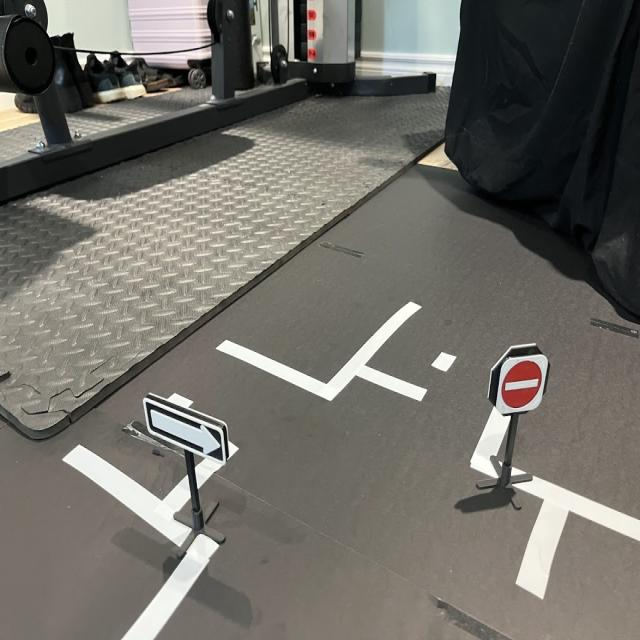sign_noentry: (493, 352, 551, 417)
sign_oneway_right: (145, 392, 231, 471)
